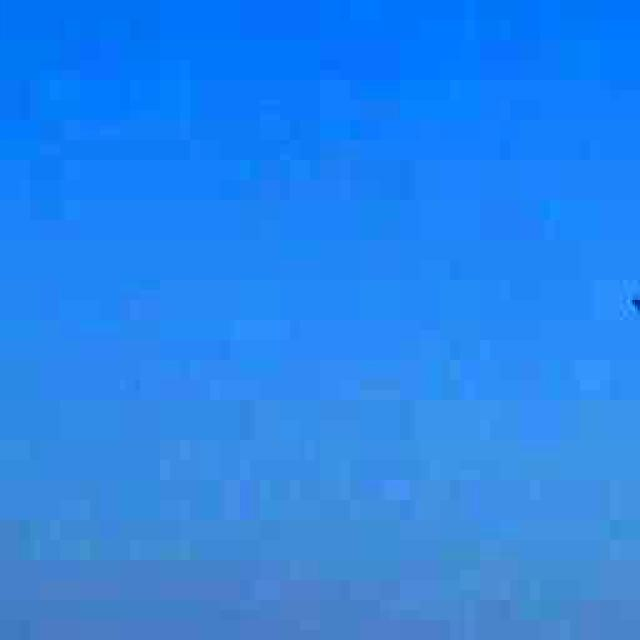bird: (619, 276, 640, 321)
